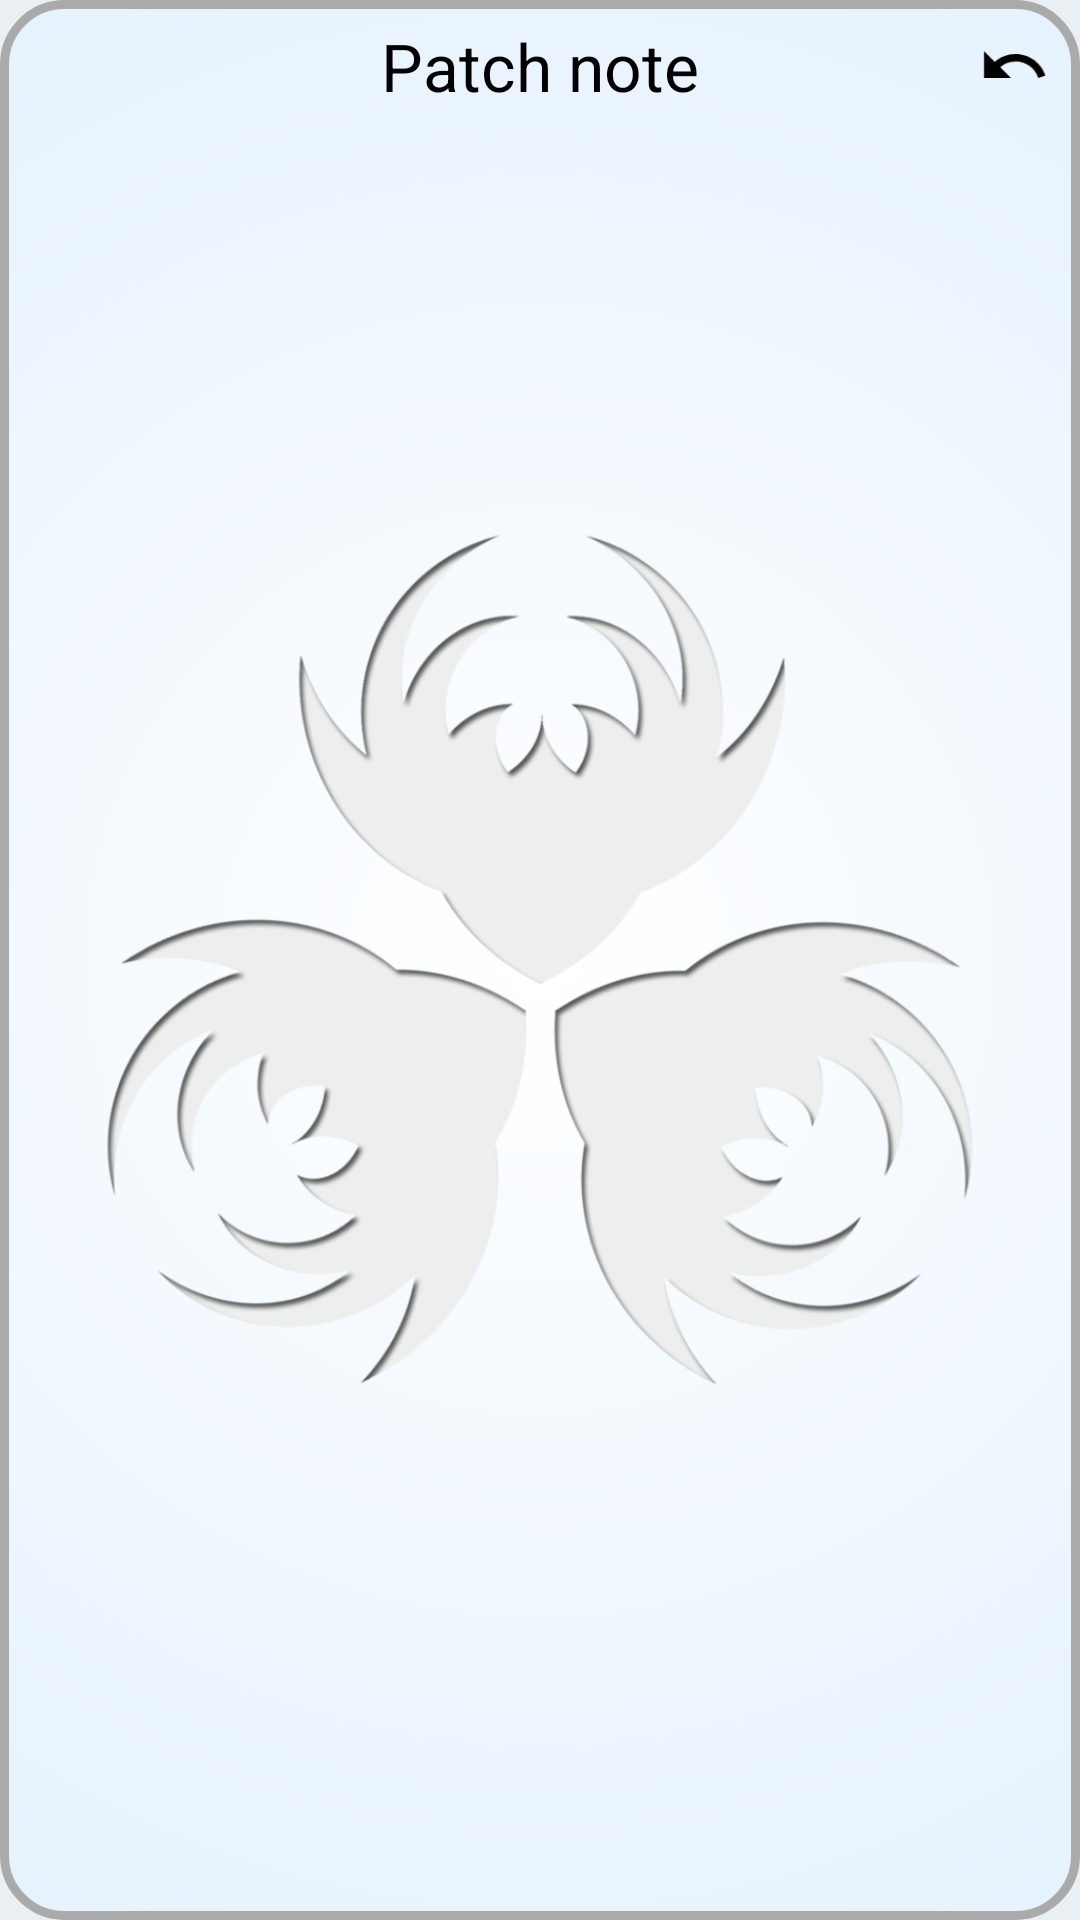

Icon click points for this 1080x1920 phone screenshot, format [x,y]:
undo: [1014,64]
